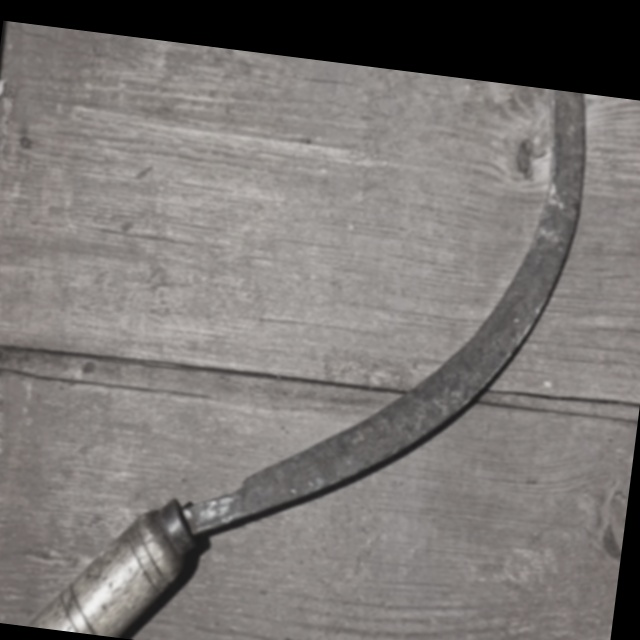Sharp-Object: (26, 33, 637, 640)
